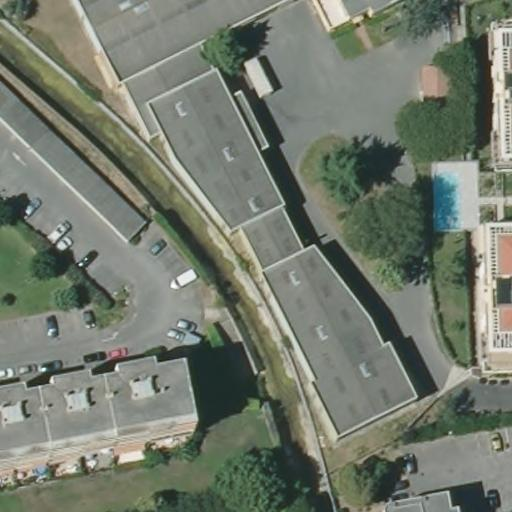pool: (428, 168, 465, 230)
